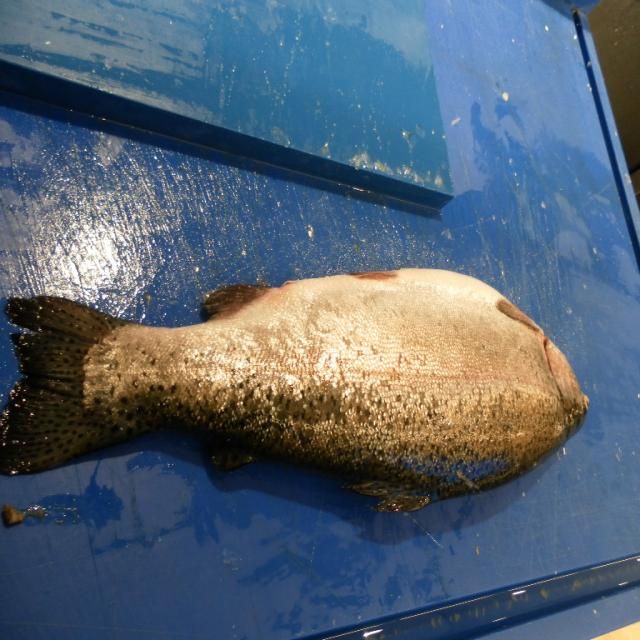Trout-alabalik-: (0, 269, 589, 514)
